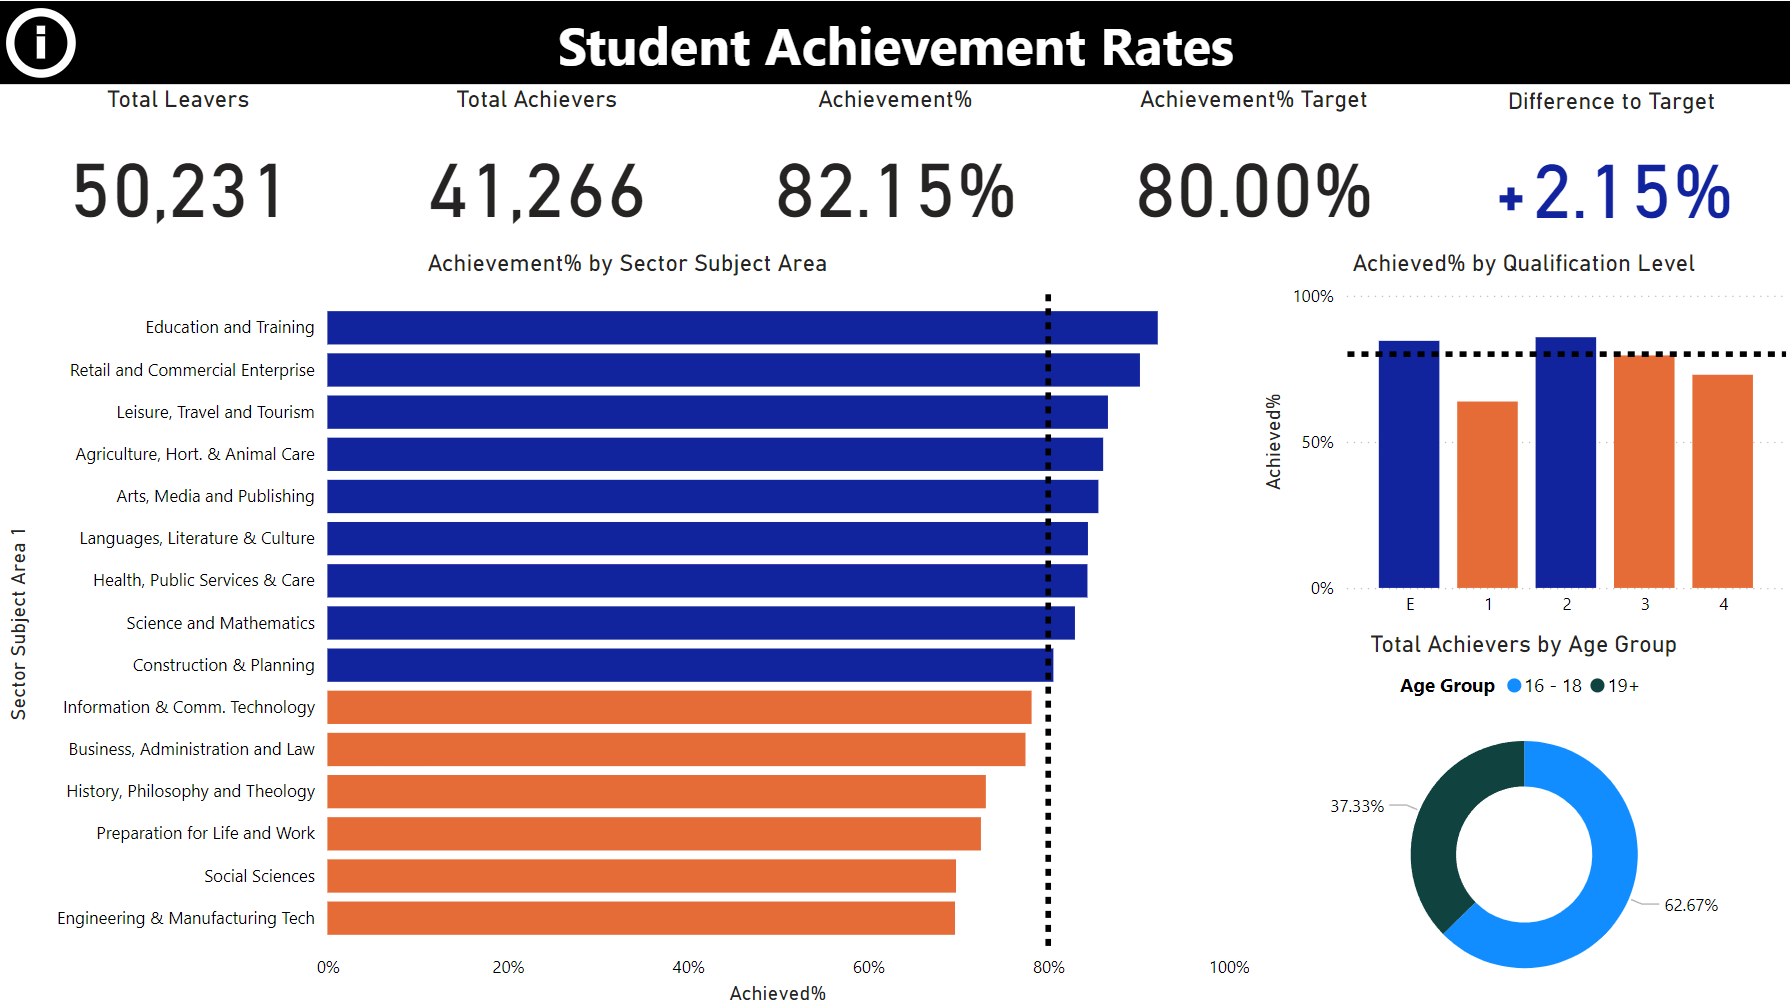

The page's visual inventory and layout, read from the dashboard file:
{"tool":"powerbi","page":{"name":"Student Achievement Rates","canvas":[1280,720],"ordinal":0},"visuals":[{"type":"card","title":"Difference to Target","fields":{"Values":["Measures (2).AchievedDiffToKPI"]},"box":[1023.3,61,254.8,115.6],"z":0},{"type":"clusteredBarChart","title":"Achievement% by Sector Subject Area","fields":{"Category":["QAR Data.Sector Subject Area.Sector Subject Area 1","QAR Data.Sector Subject Area.Sector Subject Area 2"],"Y":["Measures (2).Achieved%"]},"box":[0,176.6,897,543.8],"z":3000},{"type":"card","title":"Achievement% Target","fields":{"Values":["Measures (2).AchievedKPI"]},"box":[767.5,59.9,255.8,116.7],"z":6000},{"type":"donutChart","title":"Total Achievers by Age Group","fields":{"Category":["QAR Data.Age Group"],"Y":["Sum(QAR Data.Achieved)"]},"box":[895.9,448.5,384.3,271.9],"z":7000},{"type":"card","title":"Achievement%","fields":{"Values":["Measures (2).Achieved%"]},"box":[511.6,59.9,255.8,116.7],"z":8000},{"type":"card","title":"Total Achievers","fields":{"Values":["Sum(QAR Data.Achieved)"]},"box":[255.8,59.9,255.8,116.7],"z":9000},{"type":"card","title":"Total Leavers","fields":{"Values":["Sum(QAR Data.Leavers)"]},"box":[0,59.9,255.8,116.7],"z":10000},{"type":"columnChart","title":"Achieved% by Qualification Level","fields":{"Y":["Measures (2).Achieved%"],"Category":["Qual Level Sort.Qualification Level"]},"box":[895.9,176.6,384.3,271.9],"z":11000},{"type":"textbox","title":"Title","box":[0,0,1280,59.3],"z":11500},{"type":"actionButton","box":[0,0,61.1,59.8],"z":12500}]}

Visuals, with their boxes in screenshot pixels (x1, y1, x2, y2), scaled from the page's 1280x720 canvas onto the 1790x1003 screenshot:
"Difference to Target" card: locate(1431, 85, 1787, 246)
"Achievement% by Sector Subject Area" clusteredBarChart: locate(0, 246, 1254, 1002)
"Achievement% Target" card: locate(1073, 83, 1431, 246)
"Total Achievers by Age Group" donutChart: locate(1253, 625, 1789, 1002)
"Achievement%" card: locate(715, 83, 1073, 246)
"Total Achievers" card: locate(358, 83, 715, 246)
"Total Leavers" card: locate(0, 83, 358, 246)
"Achieved% by Qualification Level" columnChart: locate(1253, 246, 1789, 625)
"Title" textbox: locate(0, 0, 1789, 83)
actionButton: locate(0, 0, 85, 83)
